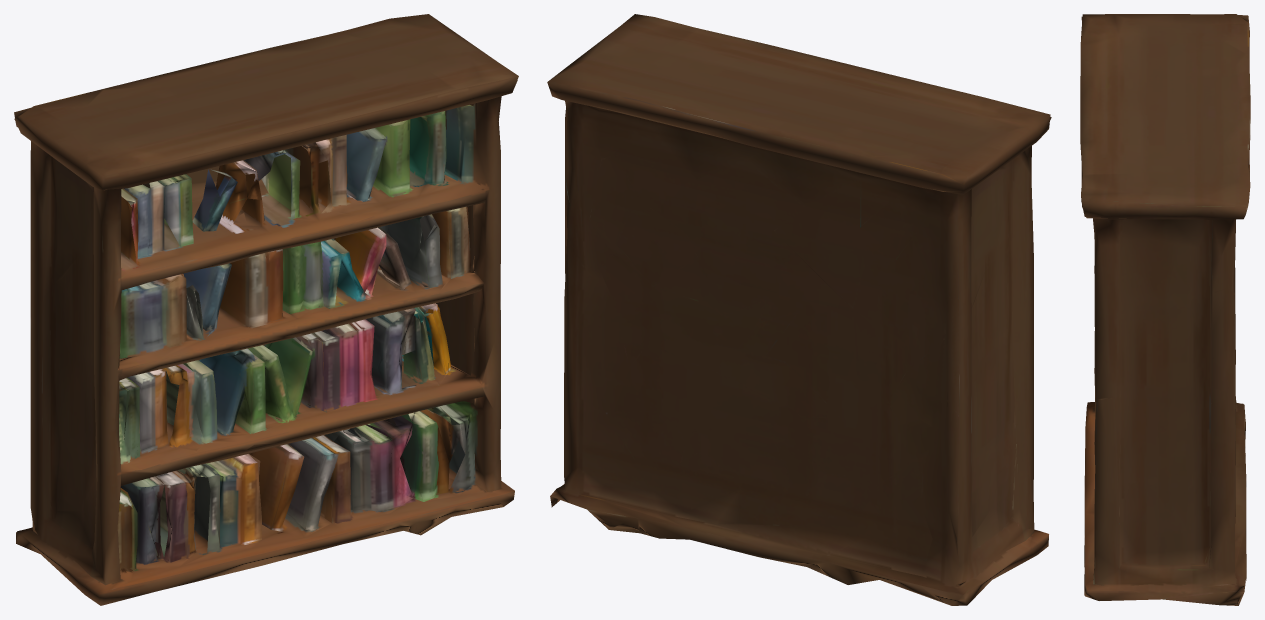
File: library_LibraryBookShelf2.glb
3 renders of one model, left to right at view 1: azimuth 30°, elevation 25°; view 2: azimuth 150°, elevation 25°; view 3: azimuth 270°, elevation 25°, orthographic. The views are drawn at different scales.
Visible parts, largest first — view 1: world; view 2: world; view 3: world.
Part boxes in pixels (left/top/right/bottom): world: left=14, top=14, right=518, bottom=605; world: left=547, top=14, right=1051, bottom=605; world: left=1080, top=14, right=1250, bottom=605.
Bounding box in the file's own units: 0.9965 × 0.9984 × 0.3774.
1 material, 1 textured.
